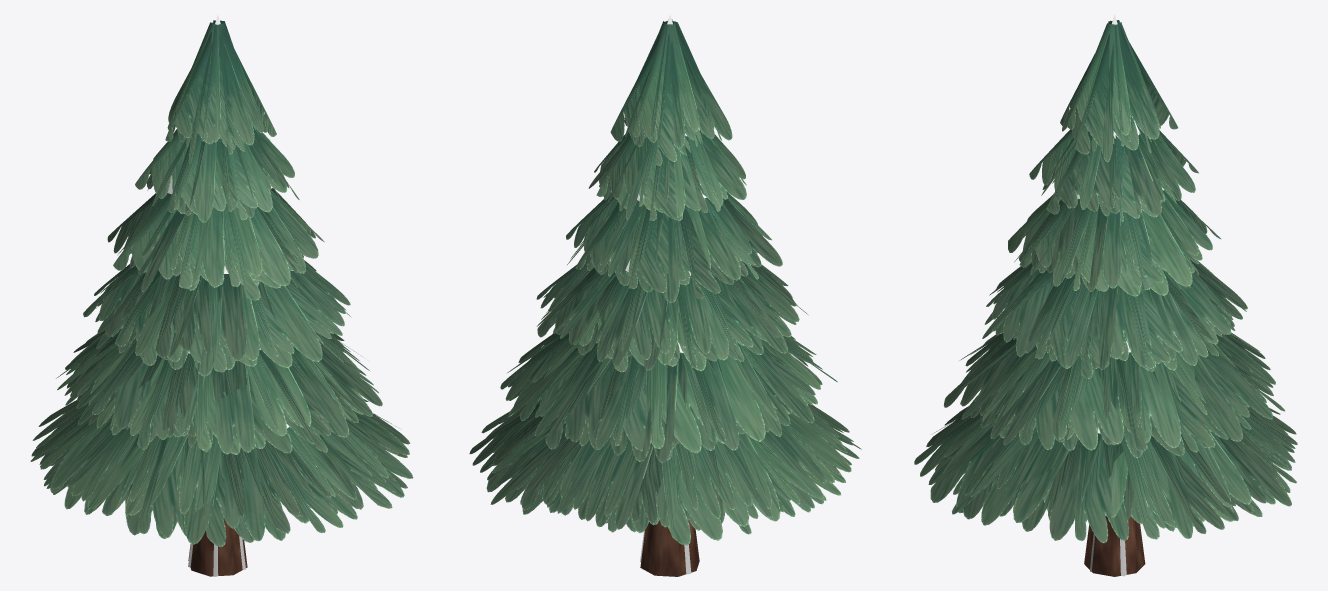
File: conifer-cedar.glb
3 views of the same model, side by side, from view 1: azimuth 30°, elevation 25°; view 2: azimuth 150°, elevation 25°; view 3: azimuth 270°, elevation 25° (orthographic).
Visible parts, largest first — view 1: Crown, Trunk; view 2: Crown, Trunk; view 3: Crown, Trunk.
Part boxes in pixels (box(x1,y1,x2,y2)): Crown: box(30, 20, 413, 547); Trunk: box(188, 517, 247, 576); Crown: box(469, 19, 861, 545); Trunk: box(640, 520, 699, 576); Crown: box(914, 20, 1297, 542); Trunk: box(1084, 515, 1145, 576).
Bounding box in the file's own units: 2.65 × 3.96 × 2.68.
3 materials, 2 textured.
